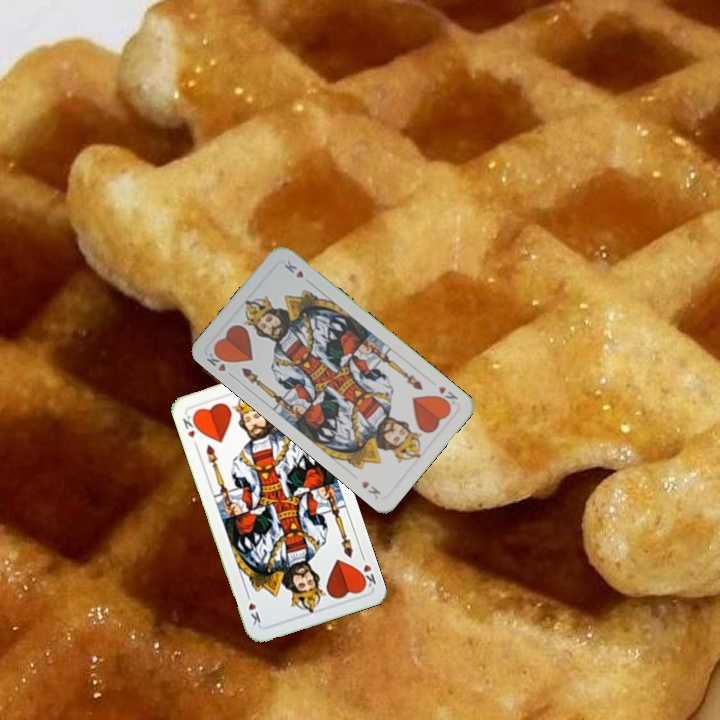HK: (202, 345, 237, 381), (354, 550, 379, 591), (178, 411, 202, 450), (433, 382, 461, 410)
